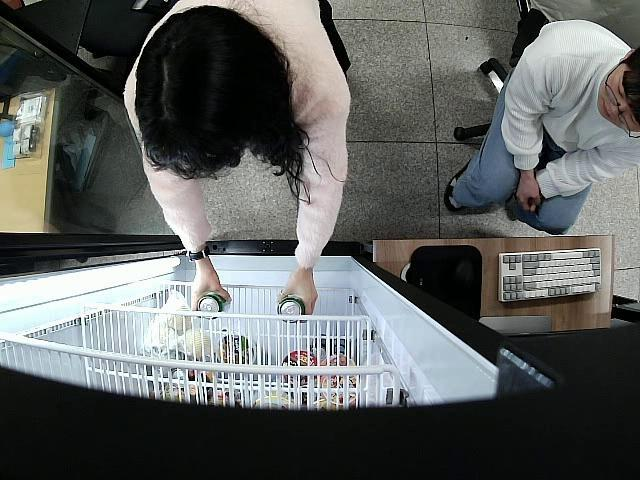12_chilsungCider: (195, 291, 231, 320), (278, 297, 306, 323)
